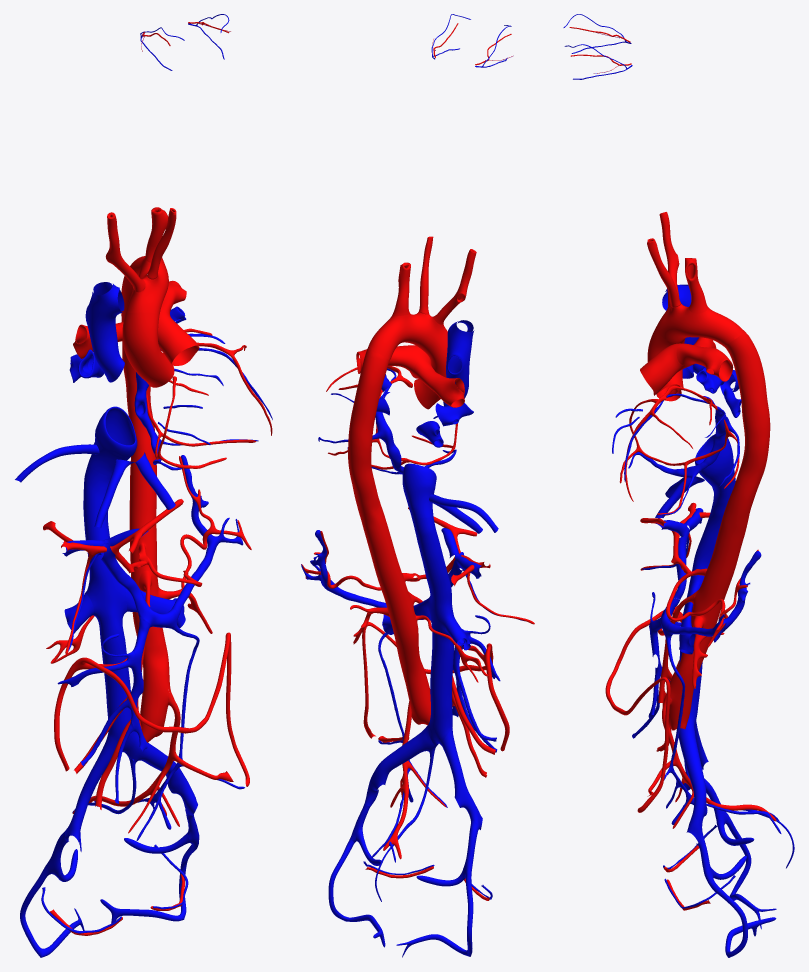
Rendered from VH_F_Blood_Vasculature.glb.
3 views of the same model, side by side, from view 1: azimuth 30°, elevation 25°; view 2: azimuth 150°, elevation 25°; view 3: azimuth 270°, elevation 25° (orthographic). The views are drawn at different scales.
Parts seen in each view (by area): view 1: VH_F_inferior_vena_cava_b, VH_F_descending_aorta_b, VH_F_superior_vena_cava, VH_F_marginal_artery_of_Drummond, VH_F_ascending_aorta, VH_F_inferior_vena_cava_a, VH_F_splenic_vein, VH_F_aortic_arch, VH_F_left_common_iliac_vein, VH_F_pulmonary_trunk, VH_F_descending_aorta_a, VH_F_right_common_iliac_vein (+14 smaller); view 2: VH_F_descending_aorta_b, VH_F_inferior_vena_cava_b, VH_F_descending_aorta_a, VH_F_aortic_arch, VH_F_inferior_vena_cava_a, VH_F_left_common_iliac_vein, VH_F_superior_vena_cava, VH_F_marginal_artery_of_Drummond, VH_F_pulmonary_artery_R, VH_F_right_common_iliac_vein, VH_F_splenic_vein, VH_F_ascending_aorta (+6 smaller); view 3: VH_F_descending_aorta_b, VH_F_descending_aorta_a, VH_F_aortic_arch, VH_F_inferior_vena_cava_b, VH_F_left_common_iliac_vein, VH_F_marginal_artery_of_Drummond, VH_F_splenic_vein, VH_F_pulmonary_artery_L, VH_F_inferior_vena_cava_a, VH_F_pulmonary_trunk, VH_F_splenic_artery, VH_F_ascending_aorta (+11 smaller).
Part boxes in pixels (x1=…): VH_F_inferior_vena_cava_b: x1=83, y1=463, x2=136, y2=752; VH_F_descending_aorta_b: x1=129, y1=443, x2=170, y2=742; VH_F_superior_vena_cava: x1=85, y1=282, x2=124, y2=382; VH_F_marginal_artery_of_Drummond: x1=54, y1=632, x2=249, y2=786; VH_F_ascending_aorta: x1=122, y1=312, x2=174, y2=387; VH_F_inferior_vena_cava_a: x1=88, y1=406, x2=137, y2=476; VH_F_splenic_vein: x1=140, y1=455, x2=243, y2=629; VH_F_aortic_arch: x1=125, y1=256, x2=168, y2=315; VH_F_left_common_iliac_vein: x1=125, y1=733, x2=197, y2=815; VH_F_pulmonary_trunk: x1=158, y1=309, x2=199, y2=365; VH_F_descending_aorta_a: x1=121, y1=276, x2=154, y2=444; VH_F_right_common_iliac_vein: x1=65, y1=736, x2=116, y2=843; VH_F_descending_aorta_b: x1=359, y1=504, x2=430, y2=725; VH_F_inferior_vena_cava_b: x1=412, y1=516, x2=454, y2=745; VH_F_descending_aorta_a: x1=348, y1=347, x2=389, y2=514; VH_F_aortic_arch: x1=368, y1=312, x2=447, y2=360; VH_F_inferior_vena_cava_a: x1=402, y1=463, x2=436, y2=517; VH_F_left_common_iliac_vein: x1=364, y1=724, x2=434, y2=805; VH_F_superior_vena_cava: x1=443, y1=320, x2=474, y2=406; VH_F_marginal_artery_of_Drummond: x1=362, y1=621, x2=509, y2=751; VH_F_pulmonary_artery_R: x1=413, y1=357, x2=464, y2=407; VH_F_right_common_iliac_vein: x1=441, y1=729, x2=482, y2=829; VH_F_splenic_vein: x1=301, y1=530, x2=386, y2=607; VH_F_ascending_aorta: x1=414, y1=347, x2=447, y2=409; VH_F_descending_aorta_b: x1=666, y1=497, x2=751, y2=730; VH_F_descending_aorta_a: x1=724, y1=332, x2=770, y2=509; VH_F_aortic_arch: x1=657, y1=304, x2=744, y2=346; VH_F_inferior_vena_cava_b: x1=679, y1=479, x2=735, y2=725; VH_F_left_common_iliac_vein: x1=678, y1=718, x2=707, y2=843; VH_F_marginal_artery_of_Drummond: x1=605, y1=609, x2=682, y2=812; VH_F_splenic_vein: x1=660, y1=551, x2=761, y2=642; VH_F_pulmonary_artery_L: x1=676, y1=343, x2=733, y2=381; VH_F_inferior_vena_cava_a: x1=695, y1=434, x2=735, y2=492; VH_F_pulmonary_trunk: x1=640, y1=343, x2=694, y2=394; VH_F_splenic_artery: x1=666, y1=549, x2=758, y2=647; VH_F_ascending_aorta: x1=647, y1=323, x2=685, y2=401.
Bounding box in the file's own units: 0.1928 × 0.799 × 0.1848.
